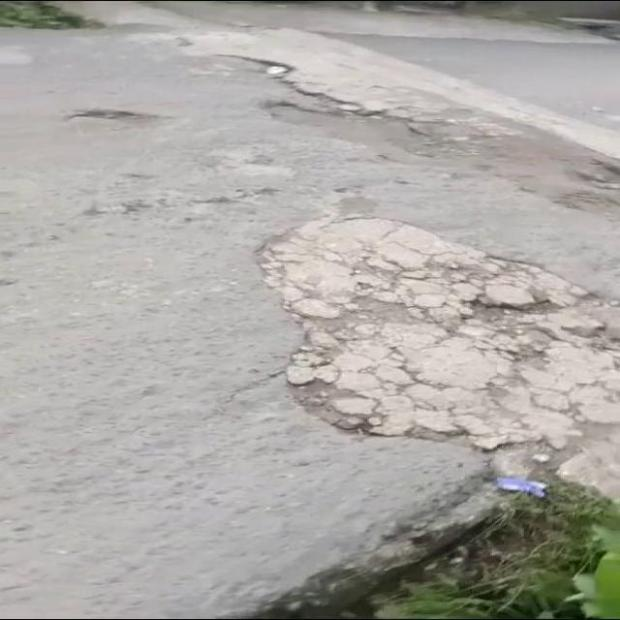lubang: (262, 216, 619, 498), (166, 46, 608, 244), (65, 108, 166, 131)
